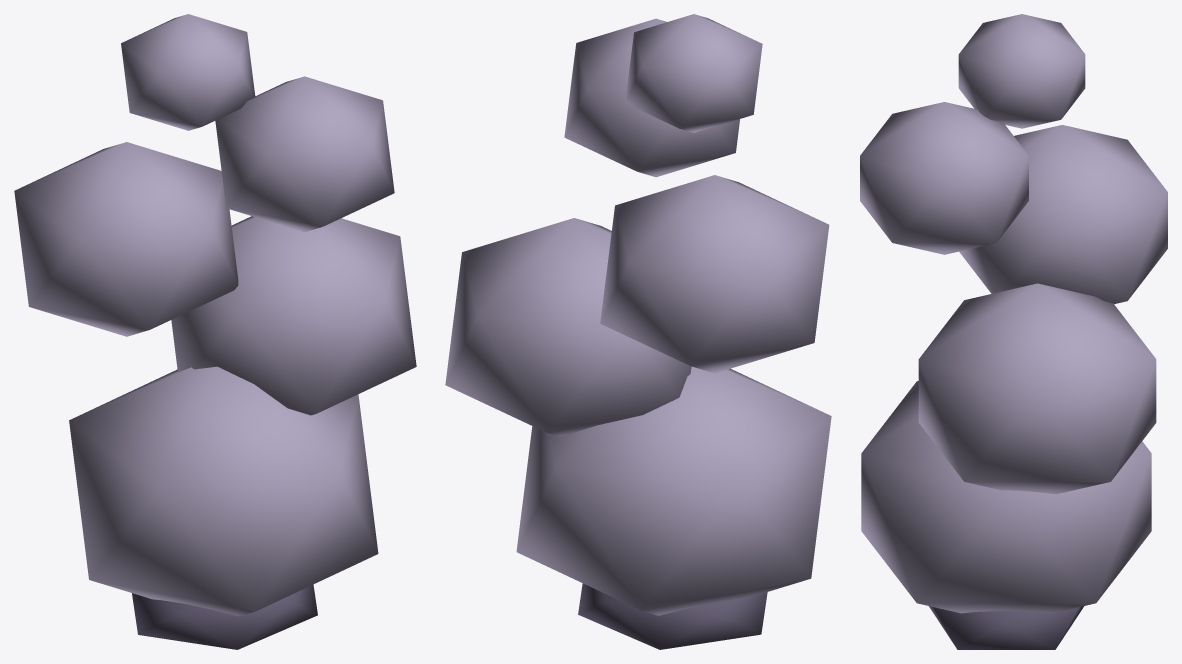
File: ember_smoke_cluster.glb
The picture shows the model from 3 angles, left to right: view 1: azimuth 30°, elevation 25°; view 2: azimuth 150°, elevation 25°; view 3: azimuth 270°, elevation 25°; orthographic projection. The views are drawn at different scales.
Parts seen in each view (by area): view 1: ember_smoke_cluster.001; view 2: ember_smoke_cluster.001; view 3: ember_smoke_cluster.001.
Part boxes in pixels (x1,y1,x2,y2): ember_smoke_cluster.001: [14, 14, 416, 649]; ember_smoke_cluster.001: [445, 14, 831, 649]; ember_smoke_cluster.001: [860, 14, 1167, 649].
Bounding box in the file's own units: 1.31 × 2.17 × 0.9925.
